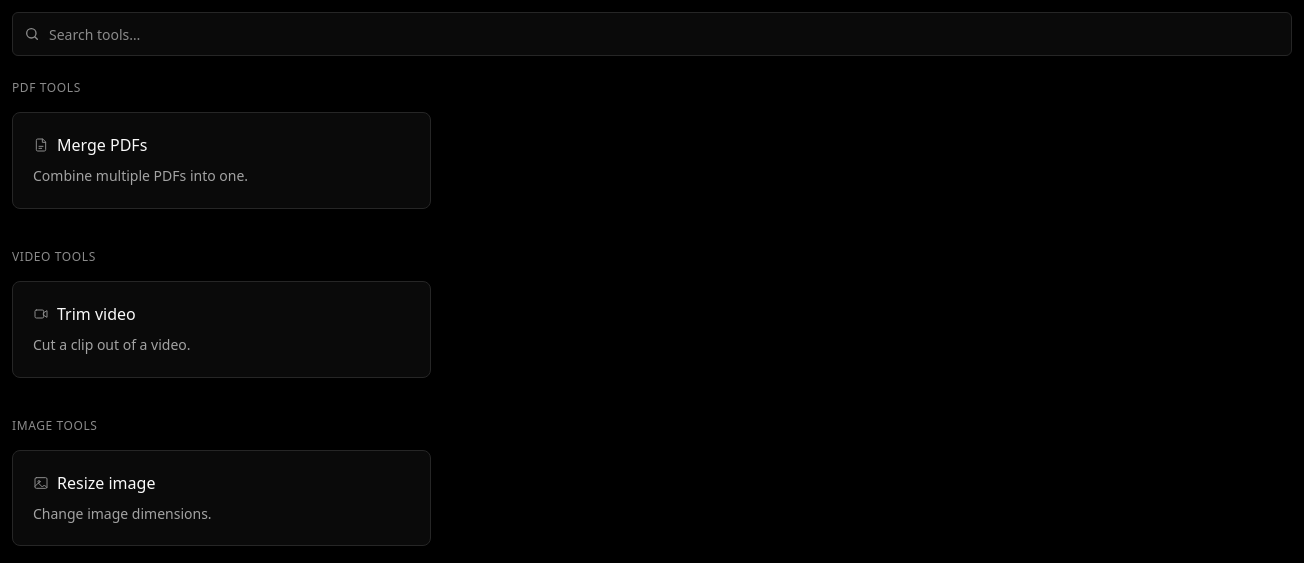
Test: HubToolFinder › matches accents-insensitively via French keywords
Type "decouper" into the search field with placeholder "Search tools…" at (652, 34), box x1=12 y1=12 x2=1292 y2=56
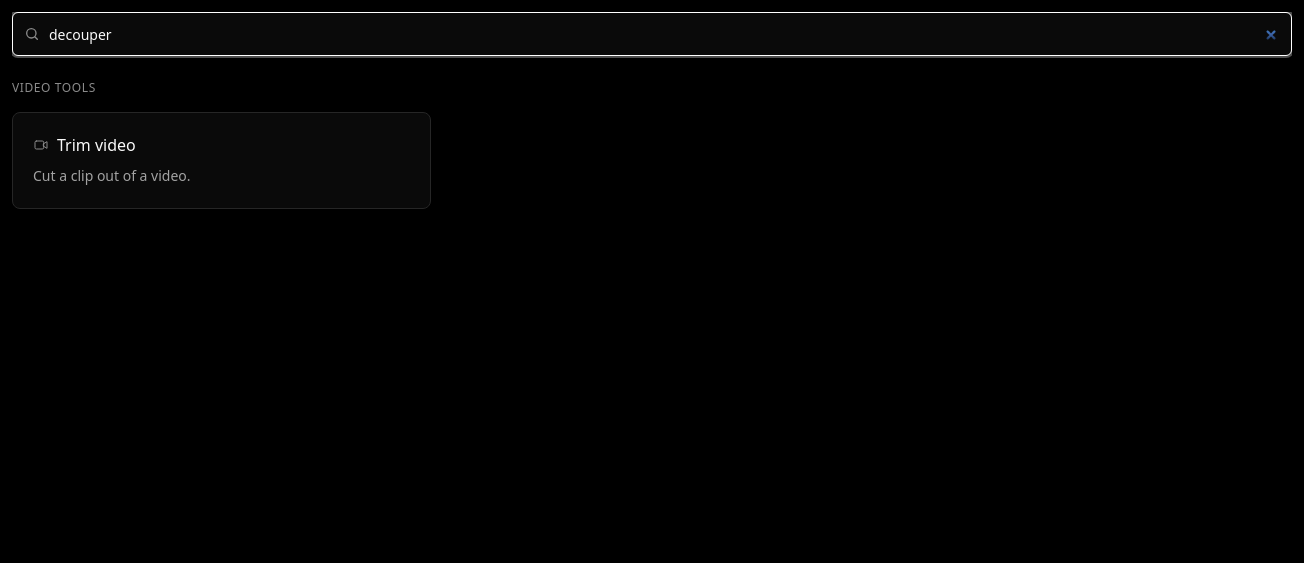
Check: the text "Trim video" is shown, box x1=57 y1=133 x2=136 y2=157
Check: the link "Merge PDFs" is gone
